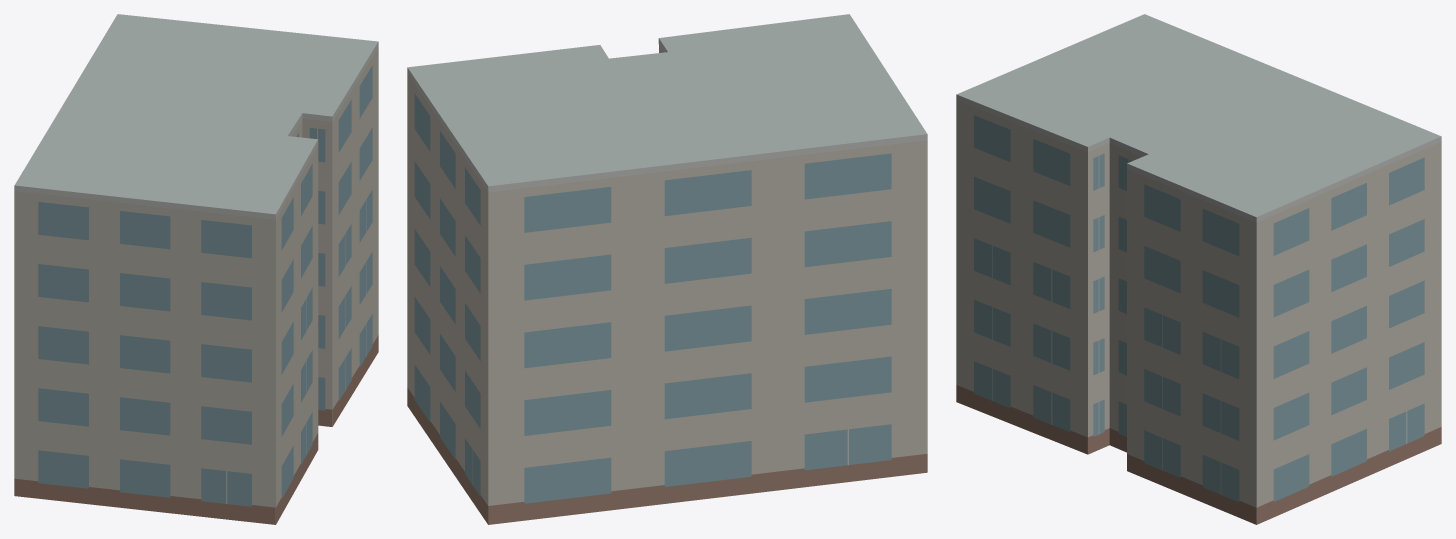
File: survey-upis-32919775.glb
3 views of the same model, side by side, from view 1: azimuth 30°, elevation 25°; view 2: azimuth 150°, elevation 25°; view 3: azimuth 270°, elevation 25° (orthographic). The views are drawn at different scales.
Visible parts, largest first — view 1: survey-upis-32919775.tmp; view 2: survey-upis-32919775.tmp; view 3: survey-upis-32919775.tmp.
Part boxes in pixels (x1=…): survey-upis-32919775.tmp: x1=14, y1=14, x2=378, y2=524; survey-upis-32919775.tmp: x1=407, y1=14, x2=927, y2=524; survey-upis-32919775.tmp: x1=956, y1=14, x2=1441, y2=524.
Size of the model in its own units: 19.57 by 13.8 by 19.73.
